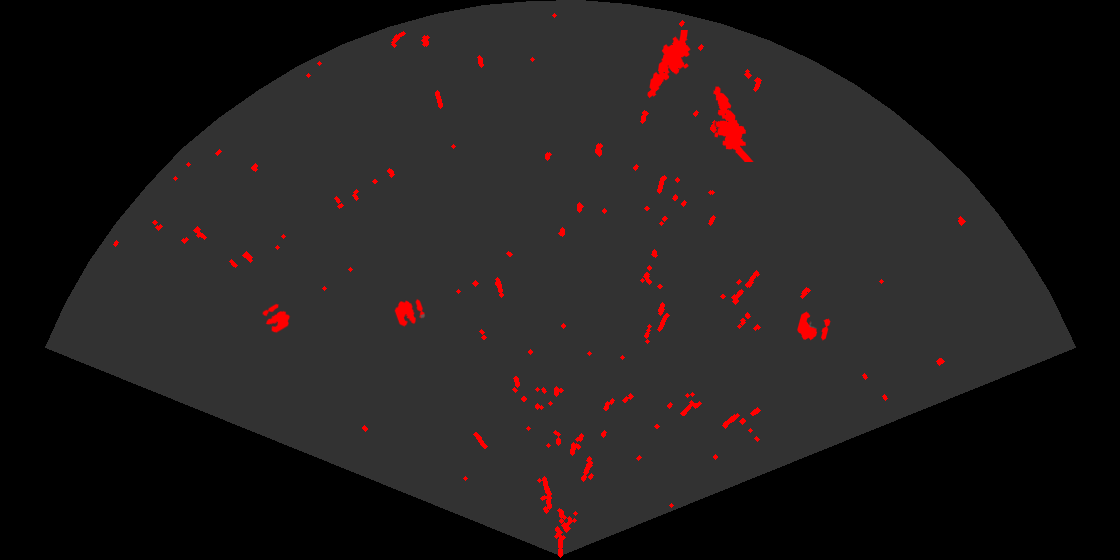ball: (796, 310, 832, 342), (261, 302, 292, 335), (393, 297, 426, 328)
frogman: (712, 85, 755, 162), (646, 30, 692, 100)
